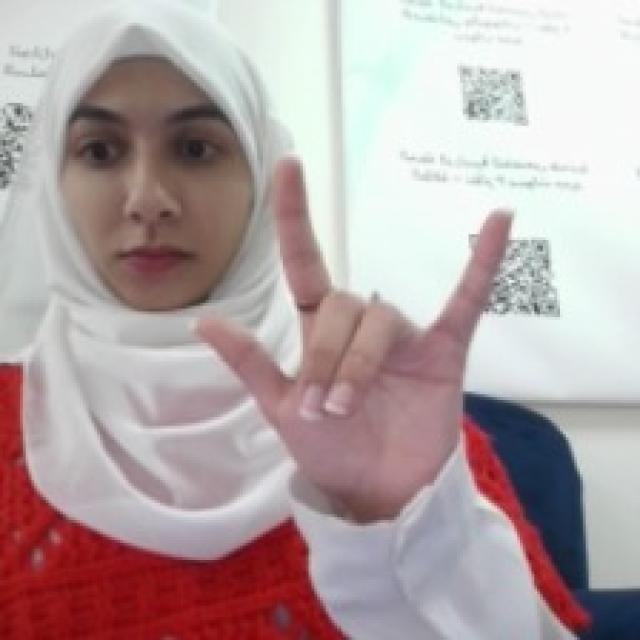love: (192, 145, 514, 506)
